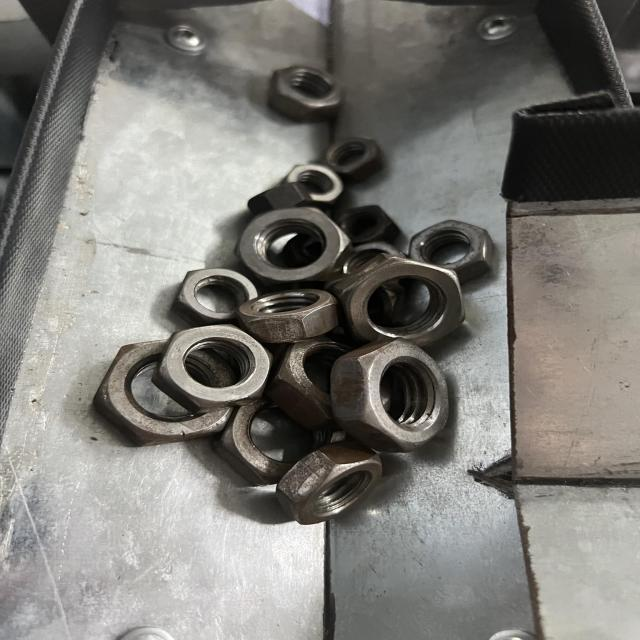nut: (335, 338, 454, 456), (160, 322, 274, 411), (236, 208, 350, 281), (276, 450, 382, 526)
